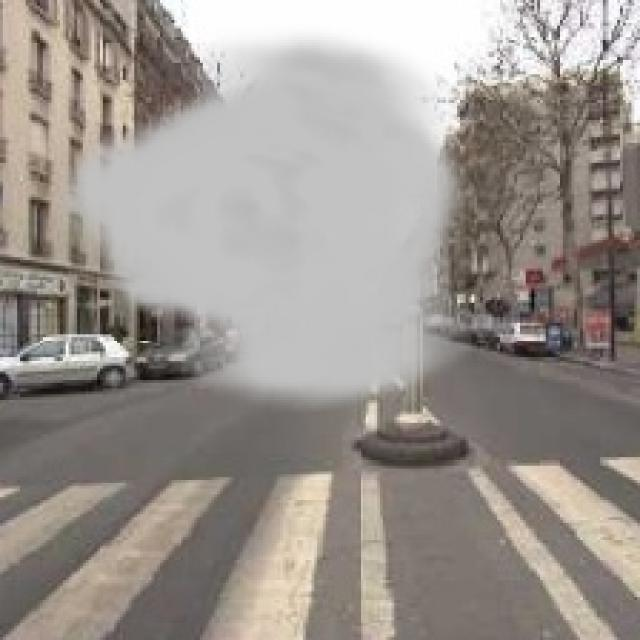Smoke: (51, 22, 472, 412)
